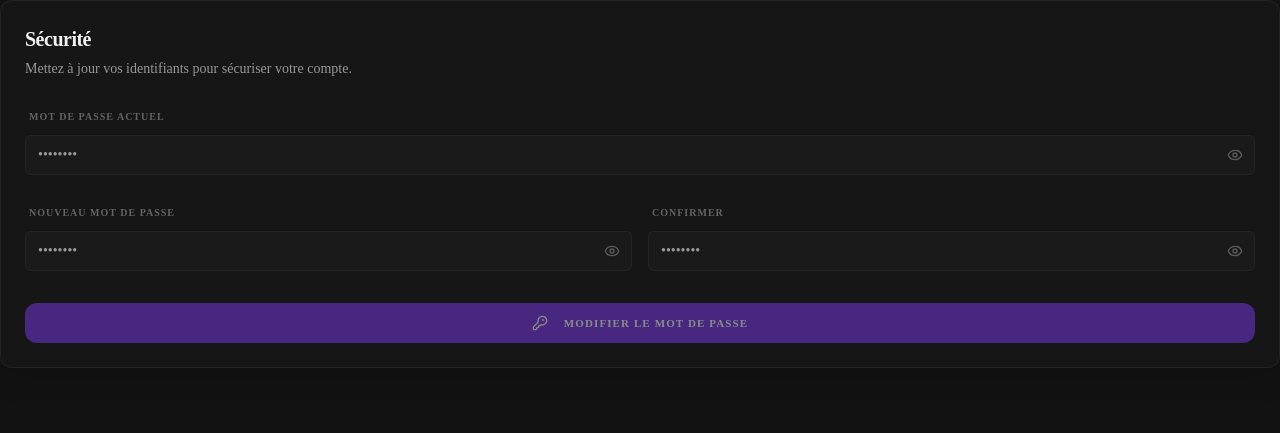
Test case: SecurityForm › should show error when current password is empty
Type "newpassword123" into the password field labelled "Nouveau mot de passe" at (328, 251), box [25,231,632,271]
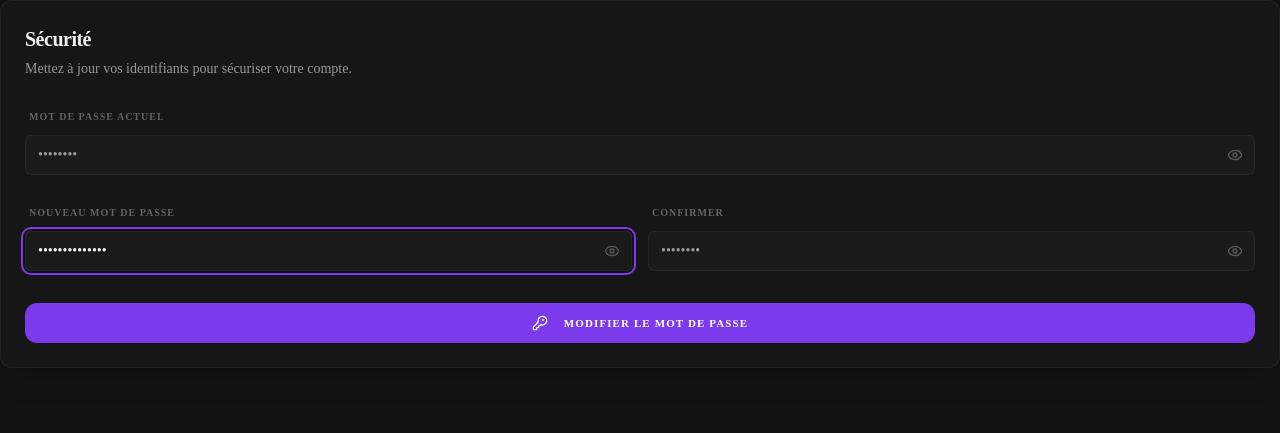
Click the button "Modifier le mot de passe" at (640, 323), box [25,303,1255,343]
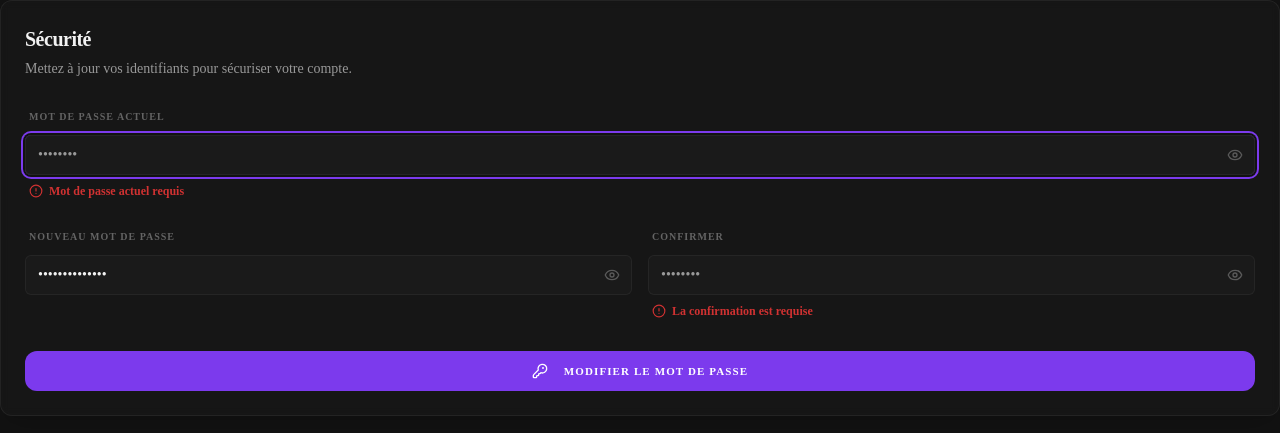
Check: the text "Mot de passe actuel requis" is shown, box [49,183,184,199]
